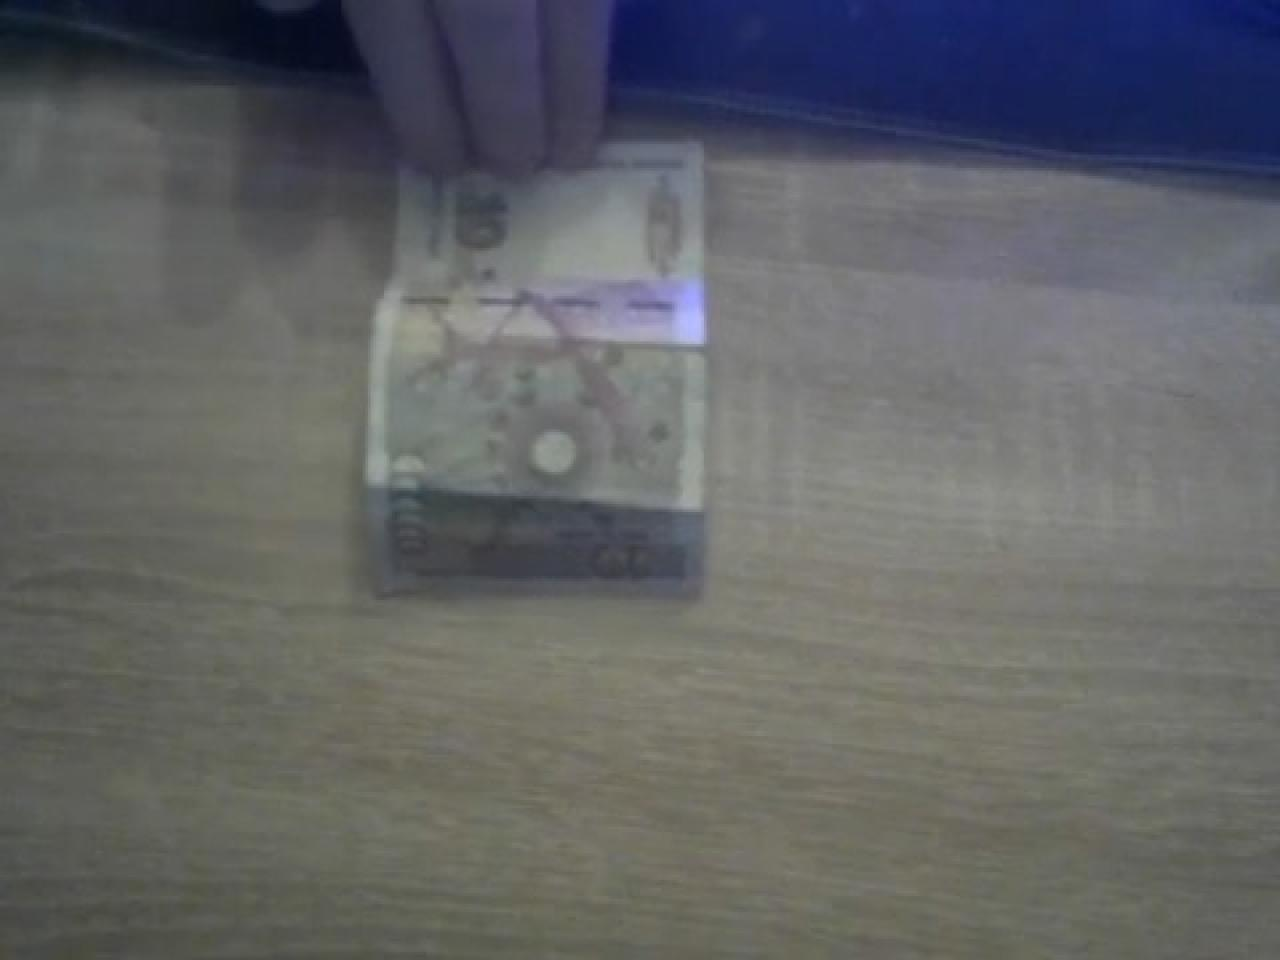10leva: (363, 139, 715, 597)
